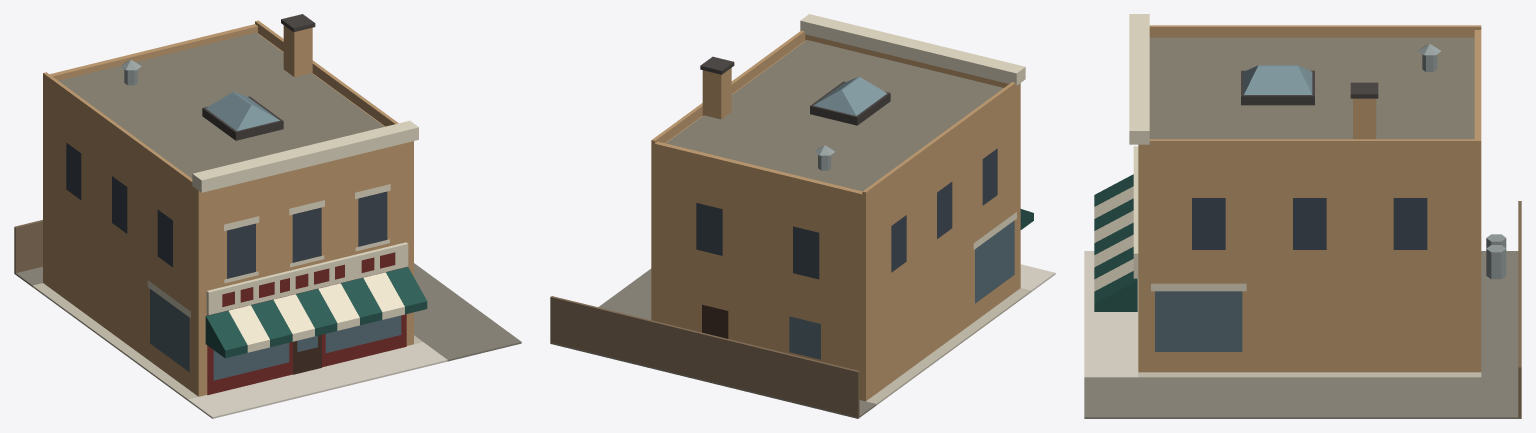
File: shop_b.glb
3 renders of one model, left to right at view 1: azimuth 30°, elevation 25°; view 2: azimuth 150°, elevation 25°; view 3: azimuth 270°, elevation 25°, orthographic. The views are drawn at different scales.
Visible parts, largest first — view 1: shop_b; view 2: shop_b; view 3: shop_b.
Part boxes in pixels (box(x1,y1,x2,y2)): shop_b: box(14, 14, 521, 418); shop_b: box(550, 14, 1055, 418); shop_b: box(1084, 14, 1521, 418).
Bounding box in the file's own units: 18 × 14.06 × 20.
